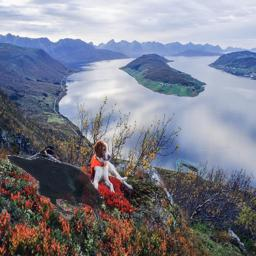Crow: (6, 155, 101, 220)
